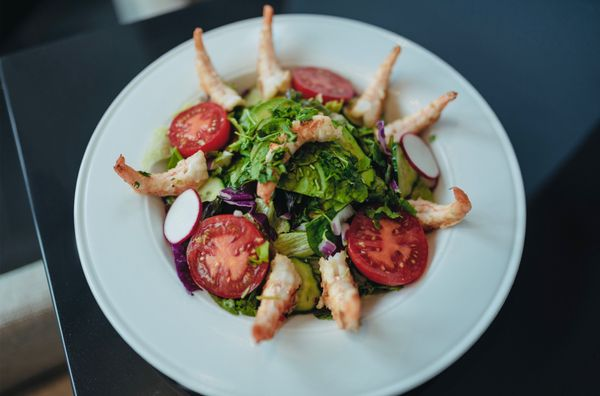curry: (2, 0, 589, 392)
